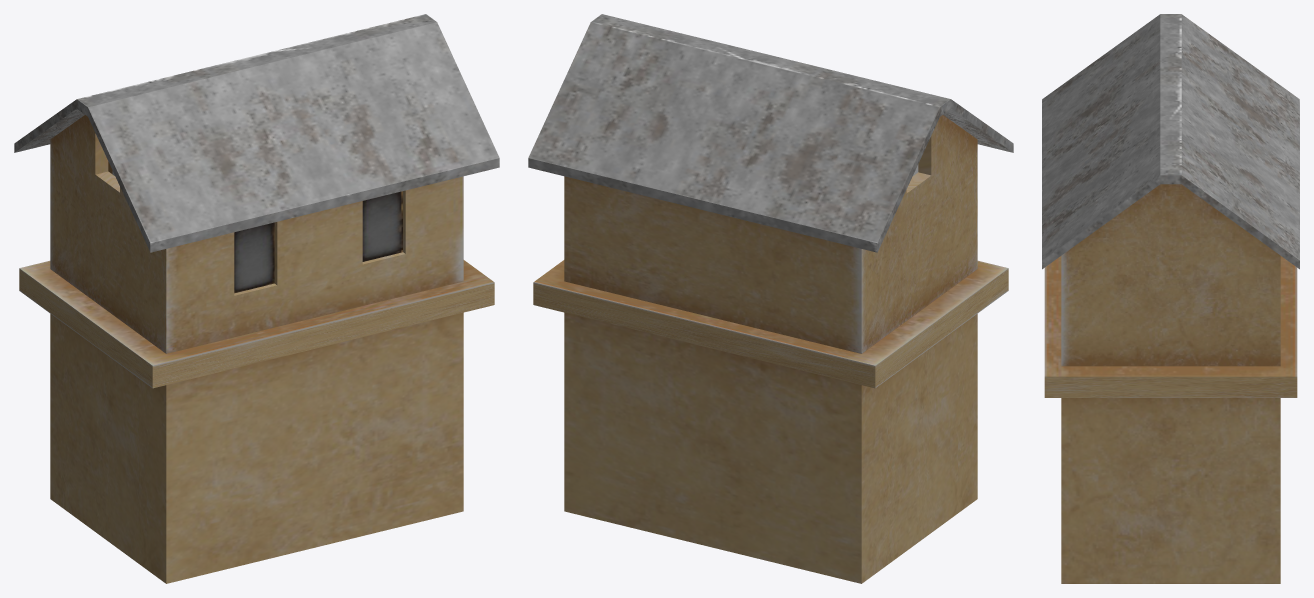
Rendered from Bangunan Terbengkalai 2.fbx.
The picture shows the model from 3 angles, left to right: view 1: azimuth 30°, elevation 25°; view 2: azimuth 150°, elevation 25°; view 3: azimuth 270°, elevation 25°; orthographic projection. The views are drawn at different scales.
Visible parts, largest first — view 1: Cube.021, Cube.024, Cube.022, Cube.023; view 2: Cube.021, Cube.024, Cube.022, Cube.023; view 3: Cube.024, Cube.021, Cube.022, Cube.023.
Part boxes in pixels (<box>): Cube.021: <box>50,312,463,583</box>; Cube.024: <box>14,14,499,252</box>; Cube.022: <box>50,115,463,353</box>; Cube.023: <box>19,260,494,388</box>; Cube.021: <box>564,312,977,583</box>; Cube.024: <box>528,14,1013,252</box>; Cube.022: <box>564,115,977,353</box>; Cube.023: <box>533,260,1008,388</box>; Cube.024: <box>1042,14,1299,269</box>; Cube.021: <box>1061,398,1280,583</box>; Cube.022: <box>1061,184,1280,366</box>; Cube.023: <box>1044,256,1297,397</box>.
Bounding box in the file's own units: 348 × 423 × 235.
3 materials, 3 textured.
